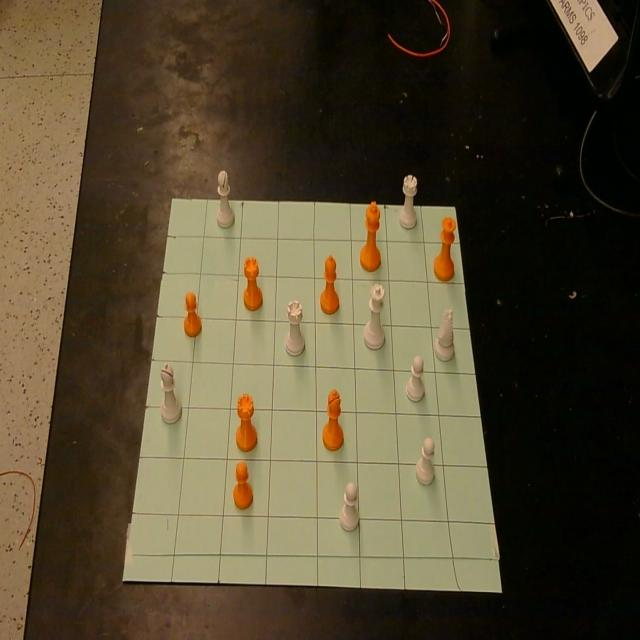orange_bishop: (322, 388, 345, 451), (235, 392, 258, 451), (320, 255, 340, 314)
orange_king: (360, 201, 382, 271)
orange_pawn: (233, 461, 253, 510), (184, 291, 202, 337)
orange_queen: (434, 216, 456, 282)
orange_rook: (242, 255, 262, 310)
white_bishop: (160, 363, 182, 424), (216, 169, 234, 228)
white_knight: (434, 308, 454, 362)
white_pawn: (339, 481, 359, 532), (415, 438, 435, 486), (405, 355, 425, 403)
white_queen: (364, 283, 386, 350)
white_rook: (284, 302, 308, 354), (400, 174, 418, 228)
